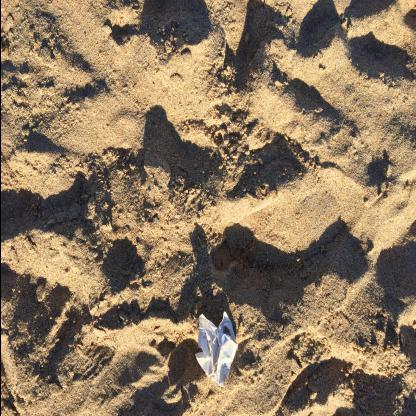kagit: (194, 310, 238, 388)
